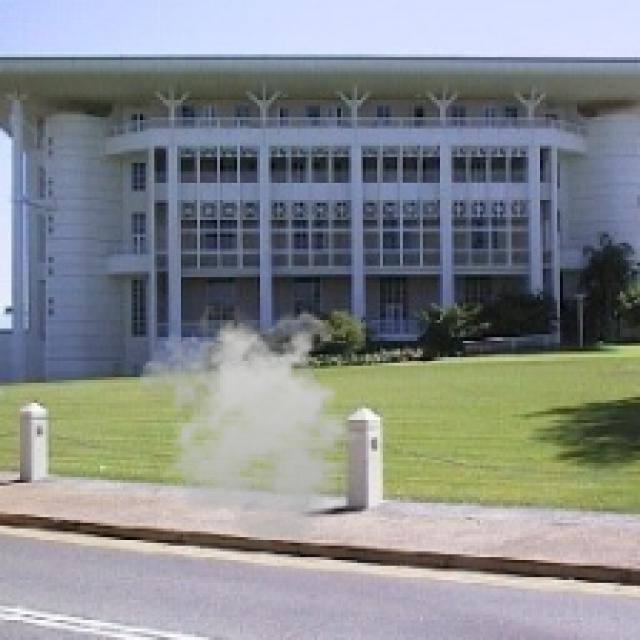smoke: (140, 306, 371, 546)
